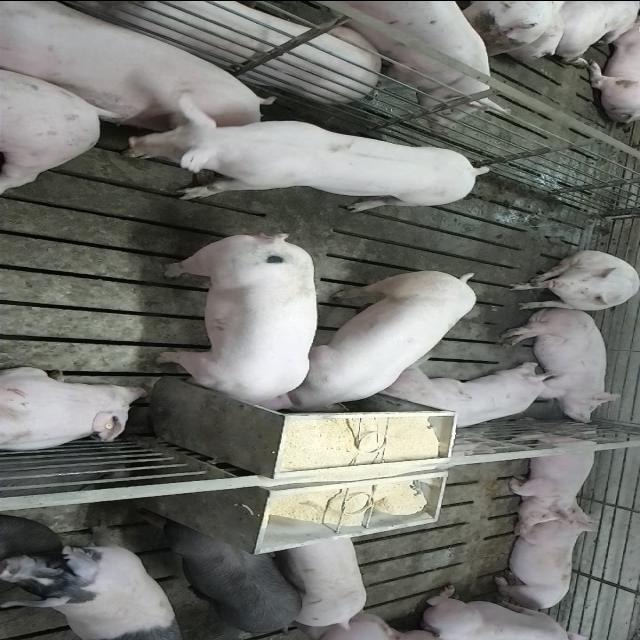Feeding: (154, 226, 320, 412), (282, 264, 479, 411)
Lateral_lying: (499, 306, 625, 424)
Sitting: (506, 250, 638, 312)
Standing: (166, 111, 494, 212), (300, 0, 500, 122), (136, 508, 302, 638), (40, 527, 188, 637), (281, 532, 367, 630)
Sternal_lying: (0, 365, 150, 452), (381, 367, 569, 433), (490, 510, 598, 612), (503, 424, 603, 528), (418, 584, 604, 638)
